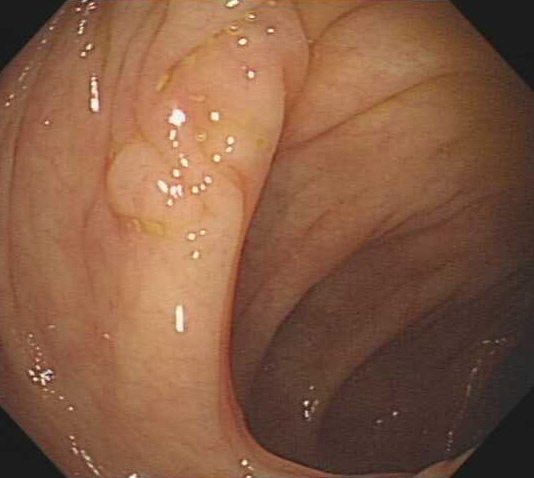others: (103, 137, 199, 225)
